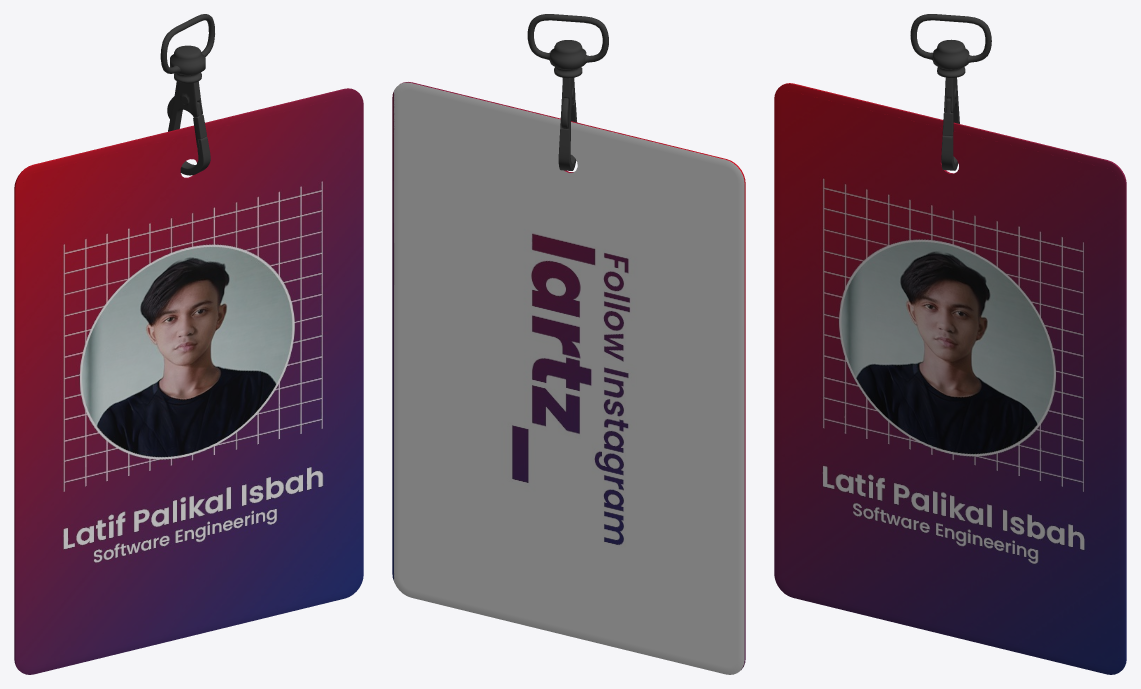
The model's file is card.glb.
3 renders of one model, left to right at view 1: azimuth 30°, elevation 25°; view 2: azimuth 150°, elevation 25°; view 3: azimuth 330°, elevation 25°, orthographic.
Parts seen in each view (by area): view 1: card, clamp, clip; view 2: card, clip, clamp; view 3: card, clip, clamp.
Boxes of the visible parts, x1,y1,x2,y2 form: card: [14, 88, 363, 674]; clamp: [167, 81, 210, 175]; clip: [160, 14, 214, 83]; card: [392, 82, 745, 674]; clip: [527, 14, 608, 78]; clamp: [558, 77, 577, 170]; card: [774, 83, 1126, 674]; clip: [910, 14, 991, 77]; clamp: [941, 77, 959, 170].
Size of the model in its own units: 0.7164 by 1.21 by 0.0903.
2 materials, 1 textured.
